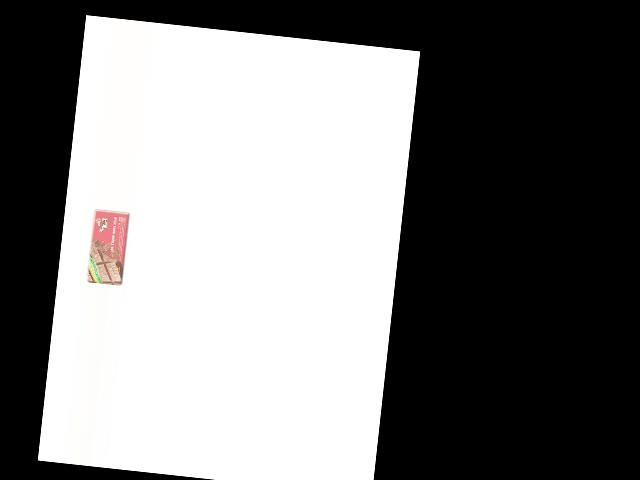chocolate: (85, 207, 131, 286)
